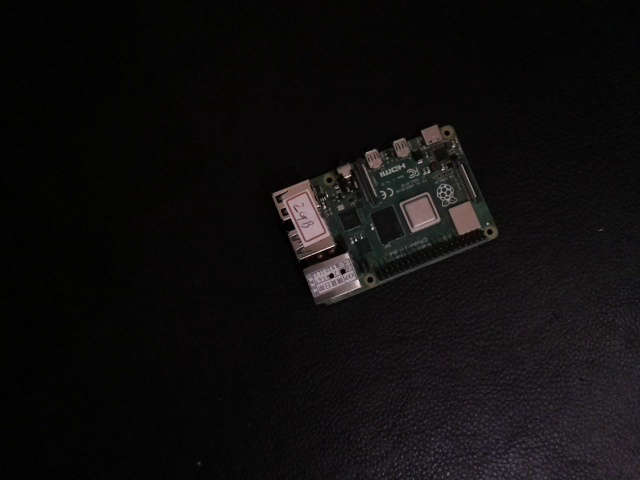pi4: (261, 82, 501, 322)
